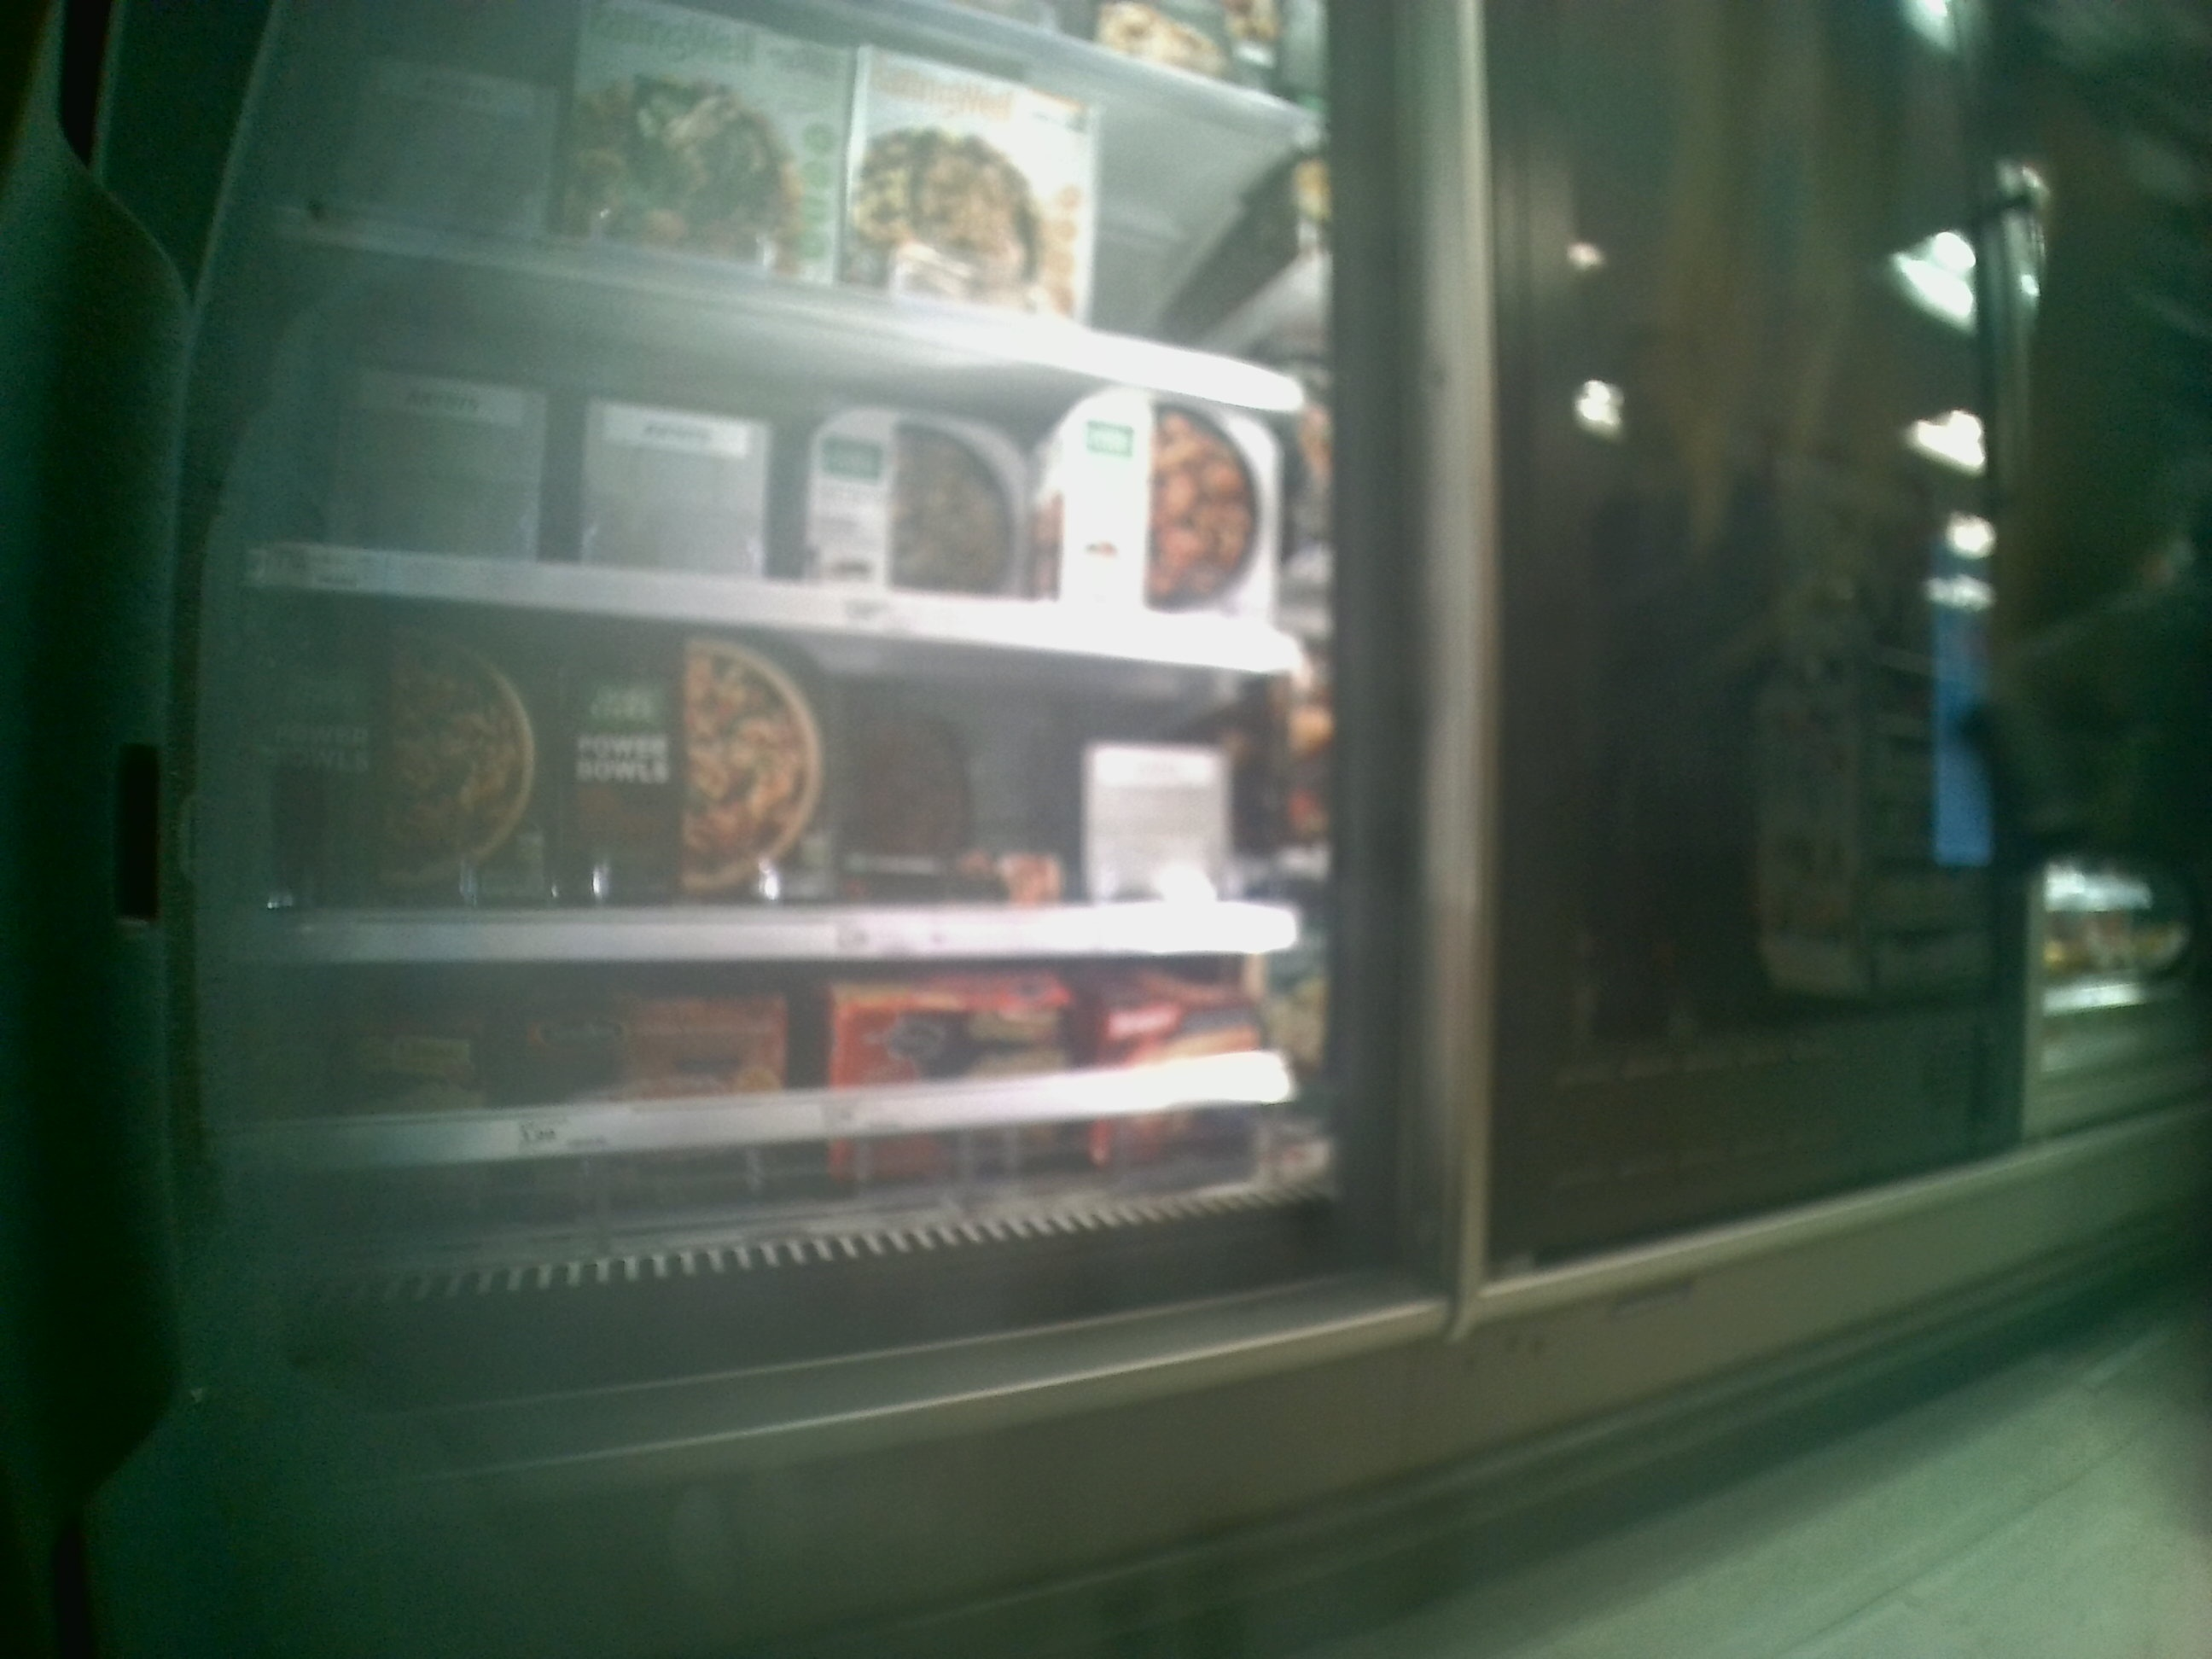shelf: (240, 586, 1325, 950), (244, 962, 1390, 1297)
